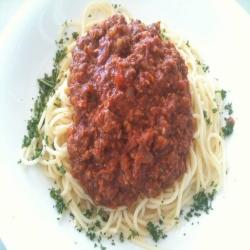bolonese_pasta: (26, 10, 236, 242)
